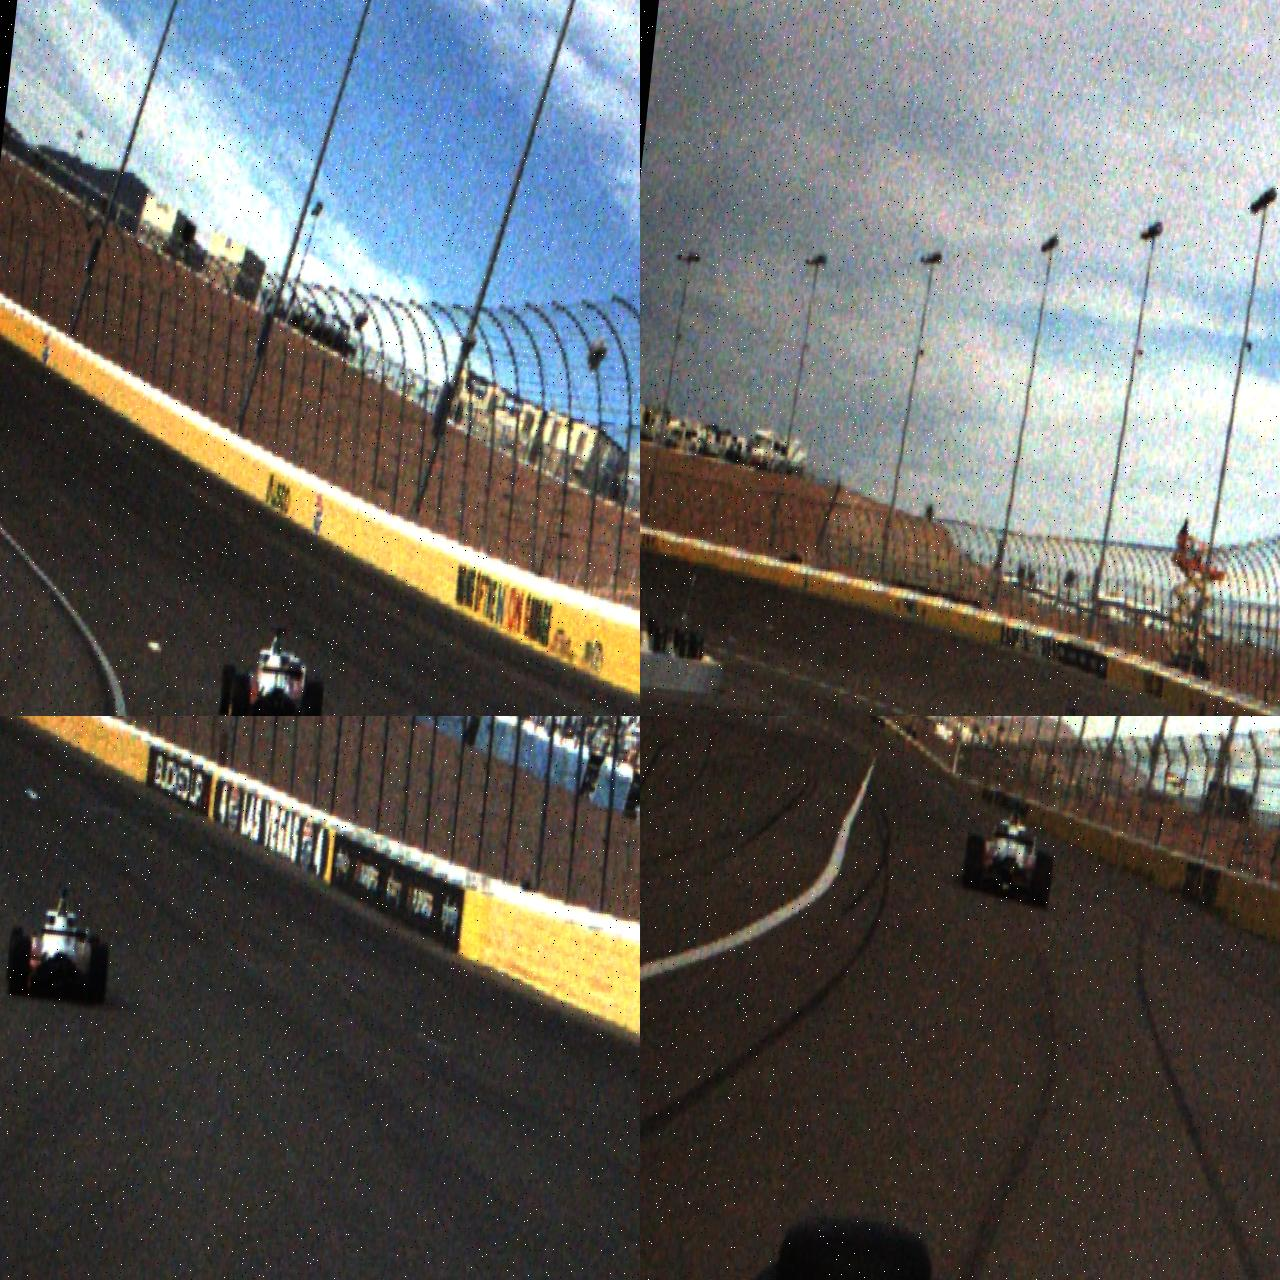AV: (4, 881, 116, 1007), (960, 794, 1060, 911), (216, 620, 331, 716)
Wheel: (87, 942, 110, 1006), (8, 935, 32, 998), (1030, 851, 1055, 910), (962, 833, 986, 891), (6, 925, 25, 983), (218, 662, 238, 716), (227, 674, 252, 716), (300, 680, 325, 716)
